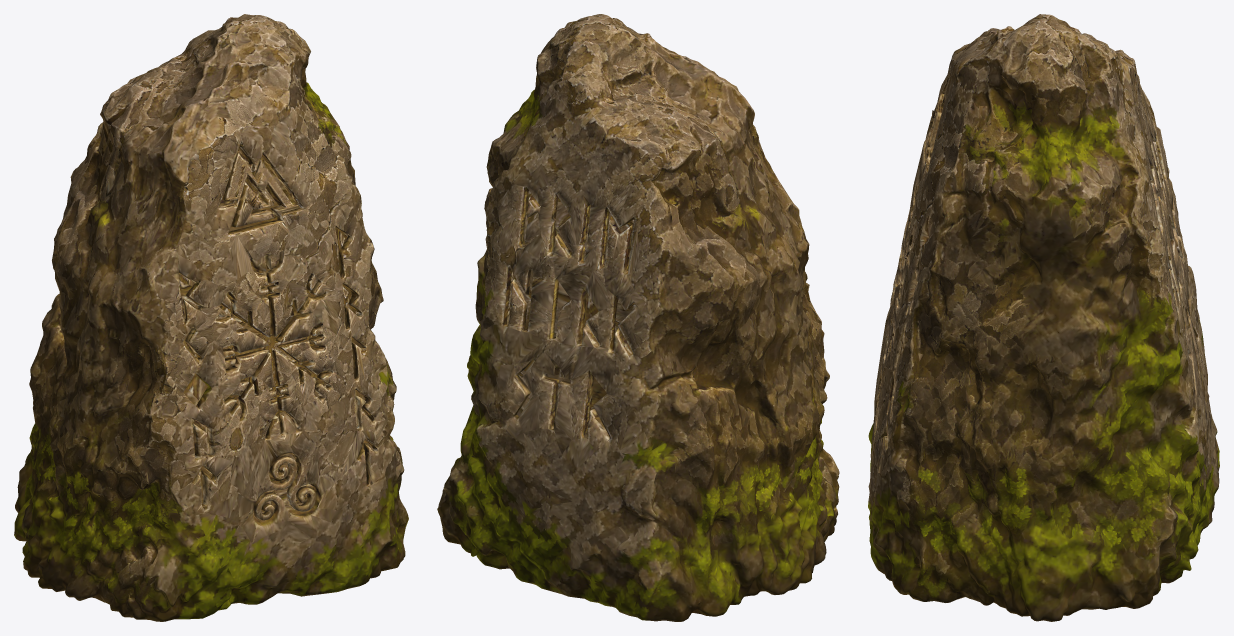
File: WatchStoneTwin.fbx
The picture shows the model from 3 angles, left to right: view 1: azimuth 30°, elevation 25°; view 2: azimuth 150°, elevation 25°; view 3: azimuth 270°, elevation 25°; orthographic projection. The views are drawn at different scales.
Visible parts, largest first — view 1: Mesh_0; view 2: Mesh_0; view 3: Mesh_0.
Part boxes in pixels (x1,y1,x2,y2): Mesh_0: (14, 14, 408, 621); Mesh_0: (437, 14, 839, 621); Mesh_0: (868, 14, 1219, 621).
Size of the model in its own units: 135 by 190 by 114.
Materials: 1 (1 with a texture image).
